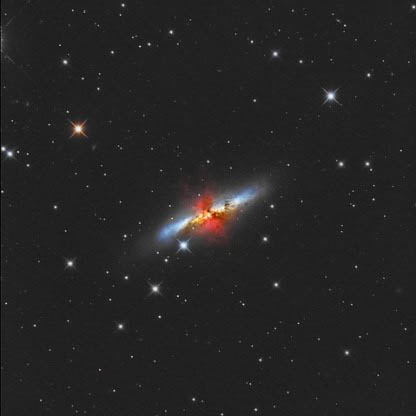Messier 82: (135, 162, 276, 276)
